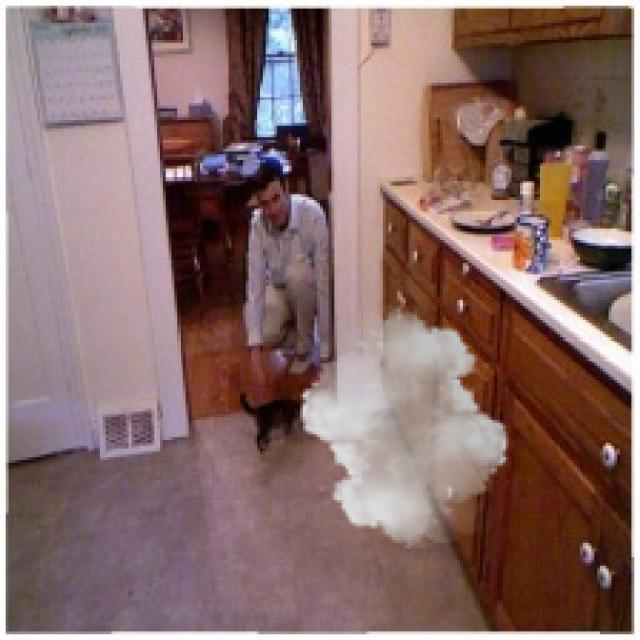smoke: (292, 306, 517, 548)
